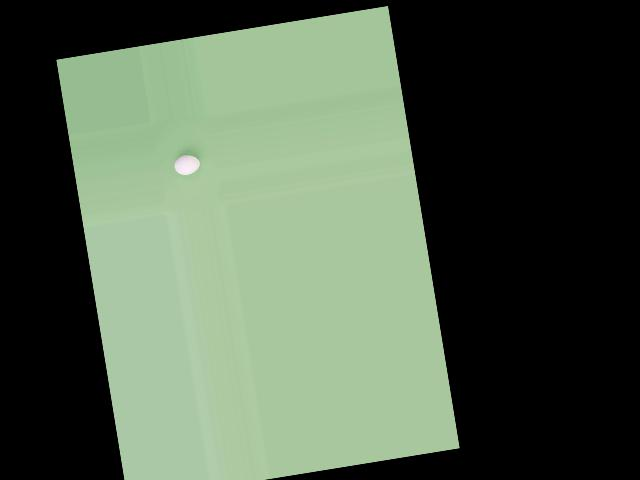egg: (172, 153, 201, 177)
